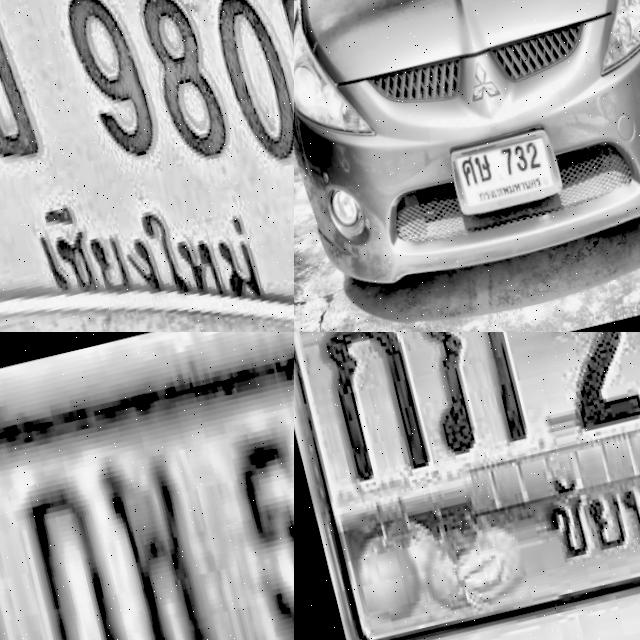license-plate: (294, 332, 640, 640), (0, 0, 294, 332), (0, 332, 294, 640), (439, 119, 569, 225)
